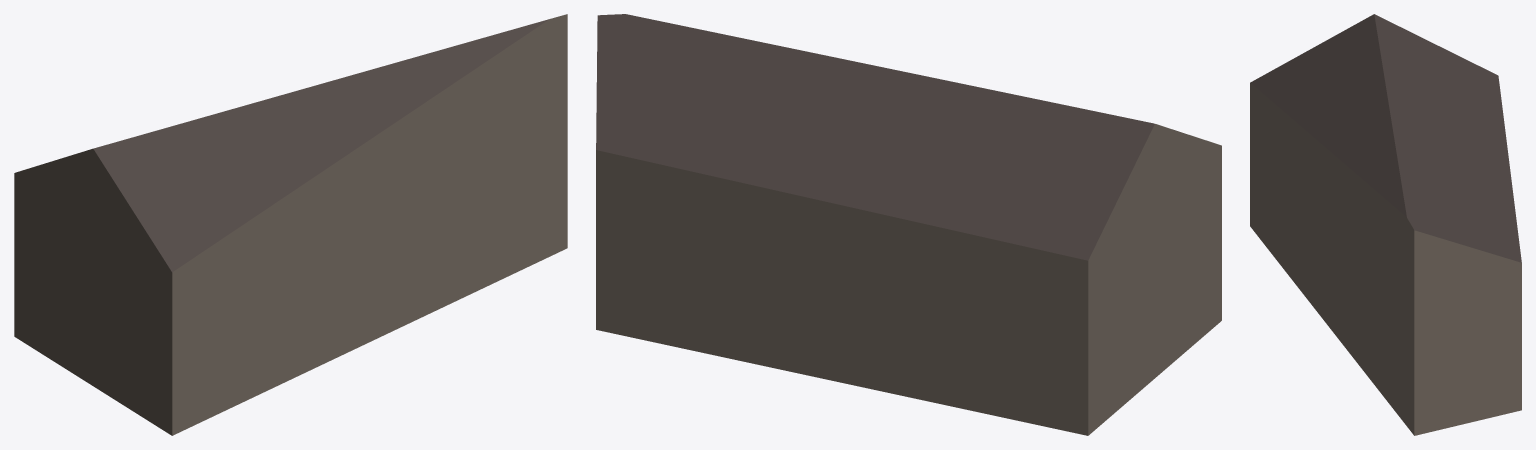
The picture shows the model from 3 angles, left to right: view 1: azimuth 30°, elevation 25°; view 2: azimuth 150°, elevation 25°; view 3: azimuth 270°, elevation 25°; orthographic projection. The views are drawn at different scales.
Parts seen in each view (by area): view 1: HP-w859424242; view 2: HP-w859424242; view 3: HP-w859424242.
Boxes of the visible parts, left/top/right/bottom form: HP-w859424242: left=14, top=14, right=567, bottom=435; HP-w859424242: left=596, top=14, right=1221, bottom=435; HP-w859424242: left=1250, top=14, right=1521, bottom=435.
Bounding box in the file's own units: 19.42 × 8.72 × 10.29.
